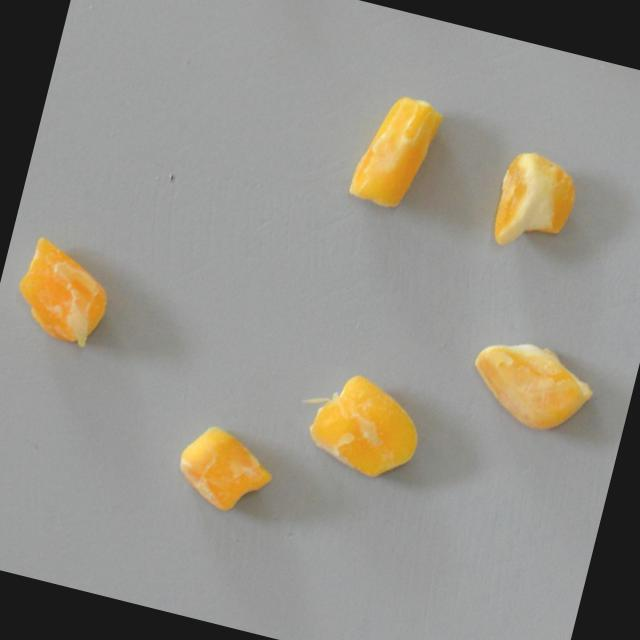pelicula: (290, 342, 441, 491), (459, 322, 605, 448), (341, 81, 453, 221), (481, 127, 593, 266), (6, 226, 126, 355), (165, 416, 285, 525)
